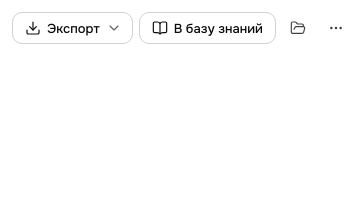
Test case: экспорт: меню форматов с клавиатуры
Click the button "Экспорт": (72, 28) x1=12 y1=12 x2=133 y2=44
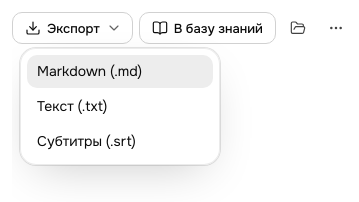
Check: the menu items read "Markdown (.md)", "Текст (.txt)", "Субтитры (.srt)", in this order, box x1=27 y1=55 x2=213 y2=88; x1=27 y1=90 x2=213 y2=123; x1=27 y1=125 x2=213 y2=158
Press Arrowup Enter
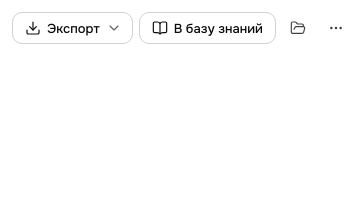
Check: the menu is gone
